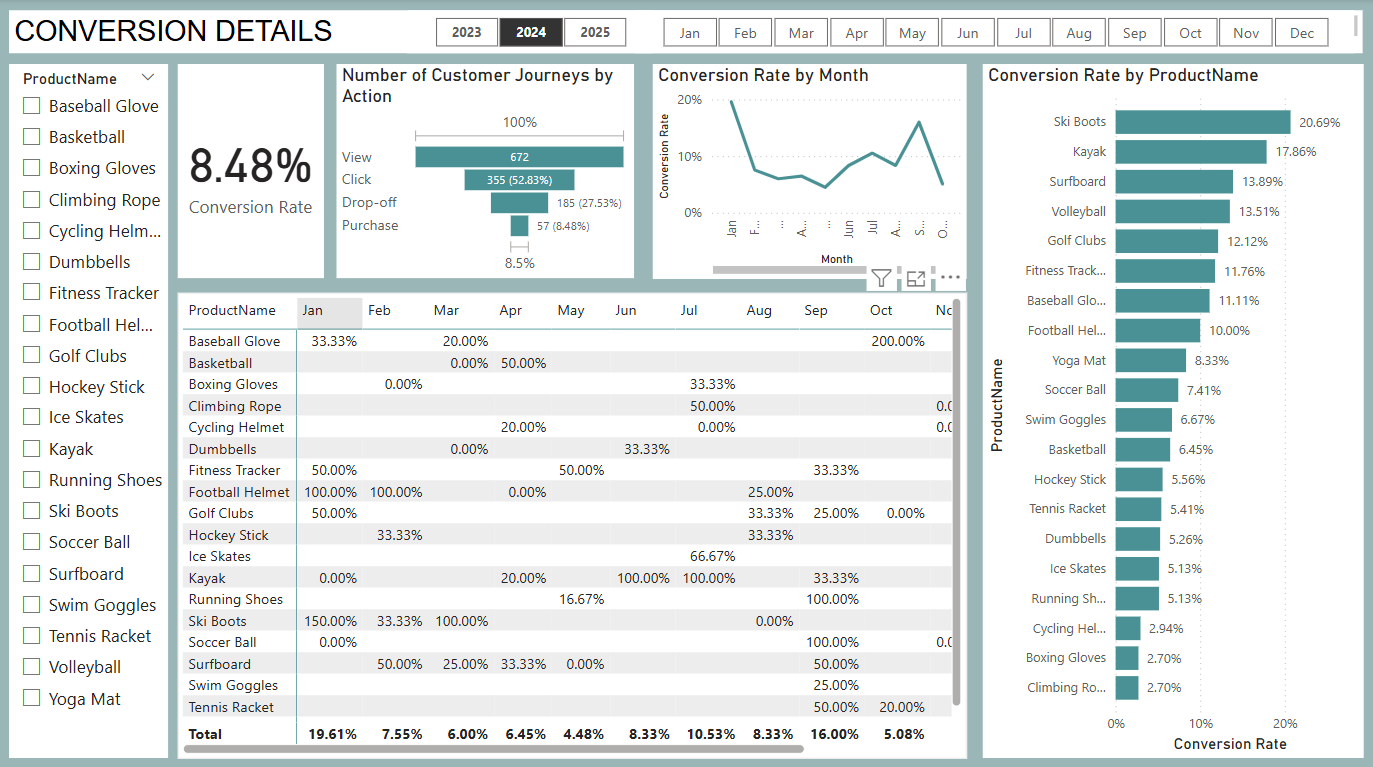

The page's visual inventory and layout, read from the dashboard file:
{"tool":"powerbi","page":{"name":"CONVERSION DETAILS","canvas":[1280,720],"ordinal":1},"visuals":[{"type":"textbox","box":[9.8,11,1259.5,40.4],"z":0},{"type":"slicer","fields":{"Values":["Calendar.Year"]},"box":[380.3,11,227.4,40.4],"z":1000},{"type":"slicer","fields":{"Values":["Calendar.MonthNameShort"]},"box":[591.9,11,668.9,40.4],"z":2000},{"type":"slicer","fields":{"Values":["dim_products.ProductName"]},"box":[9.8,59.9,148,645.7],"z":3000},{"type":"card","fields":{"Values":["Calculations.Conversion Rate"]},"box":[166.3,59.9,135.7,199.3],"z":7000},{"type":"lineChart","fields":{"Category":["Calendar.MonthNameShort"],"Y":["Calculations.Conversion Rate"]},"box":[607.9,60.4,292.3,200.3],"z":12000},{"type":"clusteredBarChart","fields":{"Category":["dim_products.ProductName"],"Y":["Calculations.Conversion Rate"]},"box":[914.7,59.9,354.6,645.7],"z":13000},{"type":"funnel","fields":{"Y":["Calculations.Number of Customer Journeys"],"Category":["fact_customer_journey.Action"]},"box":[314.2,60.4,277.2,199],"z":13001},{"type":"pivotTable","fields":{"Values":["Calculations.Conversion Rate"],"Rows":["dim_products.ProductName"],"Columns":["Calendar.MonthNameShort"]},"box":[166,273.1,734.1,433.6],"z":13002}]}

Visuals, with their boxes in screenshot pixels (x1, y1, x2, y2), scaled from the page's 1280x720 canvas onto the 1373x767 screenshot:
textbox: {"left": 11, "top": 12, "right": 1362, "bottom": 55}
slicer - Calendar.Year: {"left": 408, "top": 12, "right": 652, "bottom": 55}
slicer - Calendar.MonthNameShort: {"left": 635, "top": 12, "right": 1352, "bottom": 55}
slicer - dim_products.ProductName: {"left": 11, "top": 64, "right": 169, "bottom": 752}
card - Calculations.Conversion Rate: {"left": 178, "top": 64, "right": 324, "bottom": 276}
lineChart - Calendar.MonthNameShort x Calculations.Conversion Rate: {"left": 652, "top": 64, "right": 966, "bottom": 278}
clusteredBarChart - dim_products.ProductName x Calculations.Conversion Rate: {"left": 981, "top": 64, "right": 1362, "bottom": 752}
funnel - Calculations.Number of Customer Journeys x fact_customer_journey.Action: {"left": 337, "top": 64, "right": 634, "bottom": 276}
pivotTable - Calculations.Conversion Rate x dim_products.ProductName: {"left": 178, "top": 291, "right": 965, "bottom": 753}
